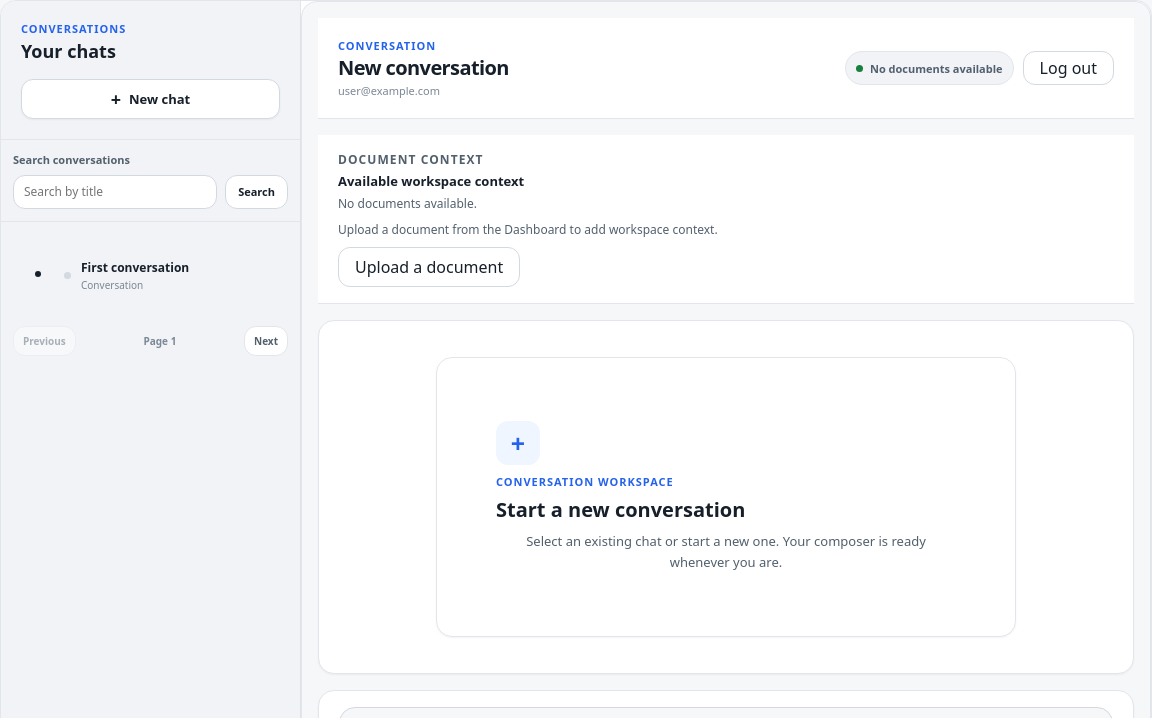
Test: ChatPage › paginates conversations and requests the next page
The image size is (1152, 718).
Check: the button "First conversation Conversation" is shown, box [53, 250, 288, 302]
Check: the button with aria-label "Previous conversation page" is disabled, box [13, 326, 76, 356]
Click the button with aria-label "Next conversation page" at {"x": 266, "y": 341}, box [244, 326, 288, 356]
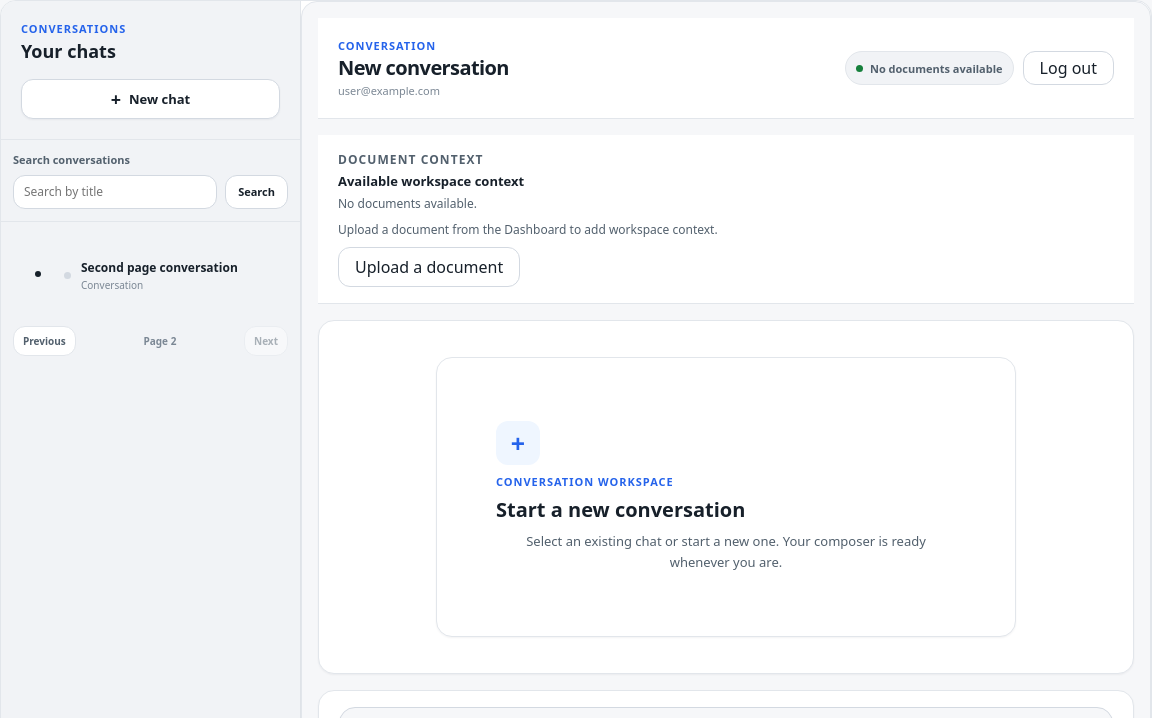
Check: the button "Second page conversation Conversation" is shown, box [53, 250, 288, 302]
Check: the button with aria-label "Previous conversation page" is enabled, box [13, 326, 76, 356]
